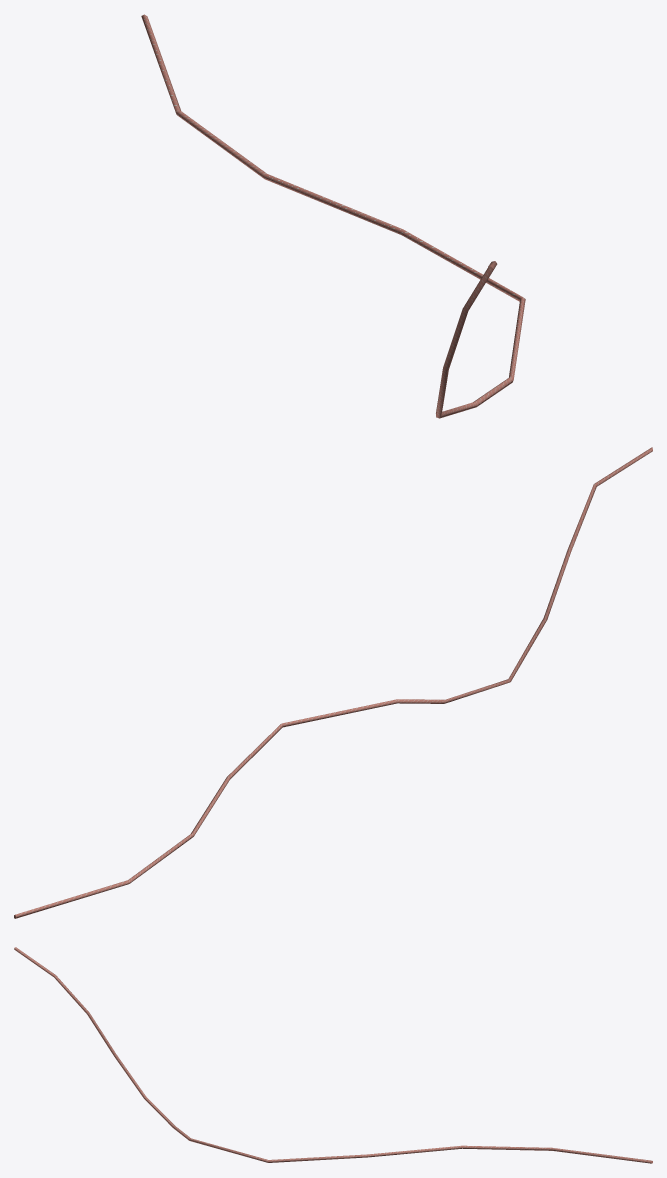
File: kd_stage_135b75_4_112.glb
The picture shows the model from 3 angles, top to bottom: view 1: azimuth 30°, elevation 25°; view 2: azimuth 150°, elevation 25°; view 3: azimuth 270°, elevation 25°; orthographic projection. The views are drawn at different scales.
Parts seen in each view (by area): view 1: kd_stage_135b75_4_112; view 2: kd_stage_135b75_4_112; view 3: kd_stage_135b75_4_112.
Part boxes in pixels (x1,y1,x2,y2): kd_stage_135b75_4_112: (141,14,525,418); kd_stage_135b75_4_112: (14,447,652,918); kd_stage_135b75_4_112: (14,947,652,1163).
Size of the model in its own units: 0.3656 by 0.3518 by 1.37.
1 material, 1 textured.
